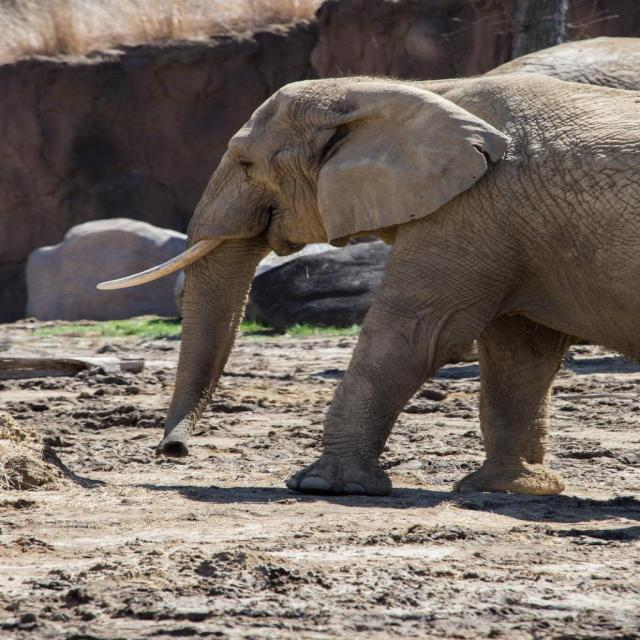Elephant: (64, 72, 636, 502)
